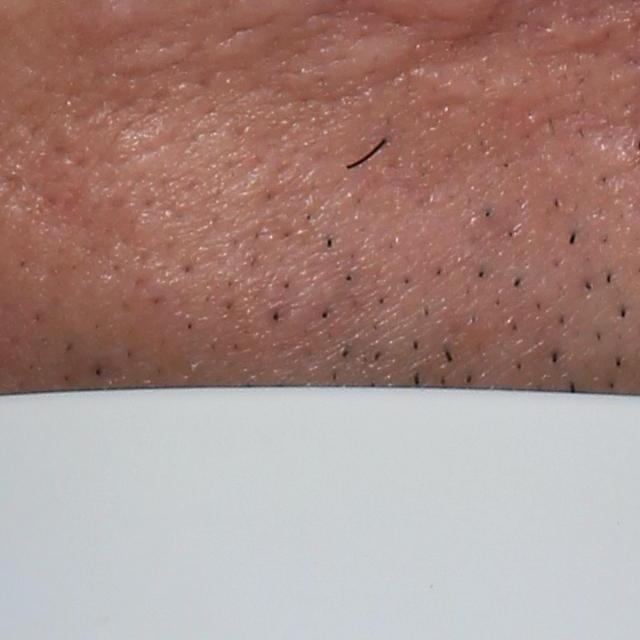hypertrophic_scar: (282, 31, 413, 92)
